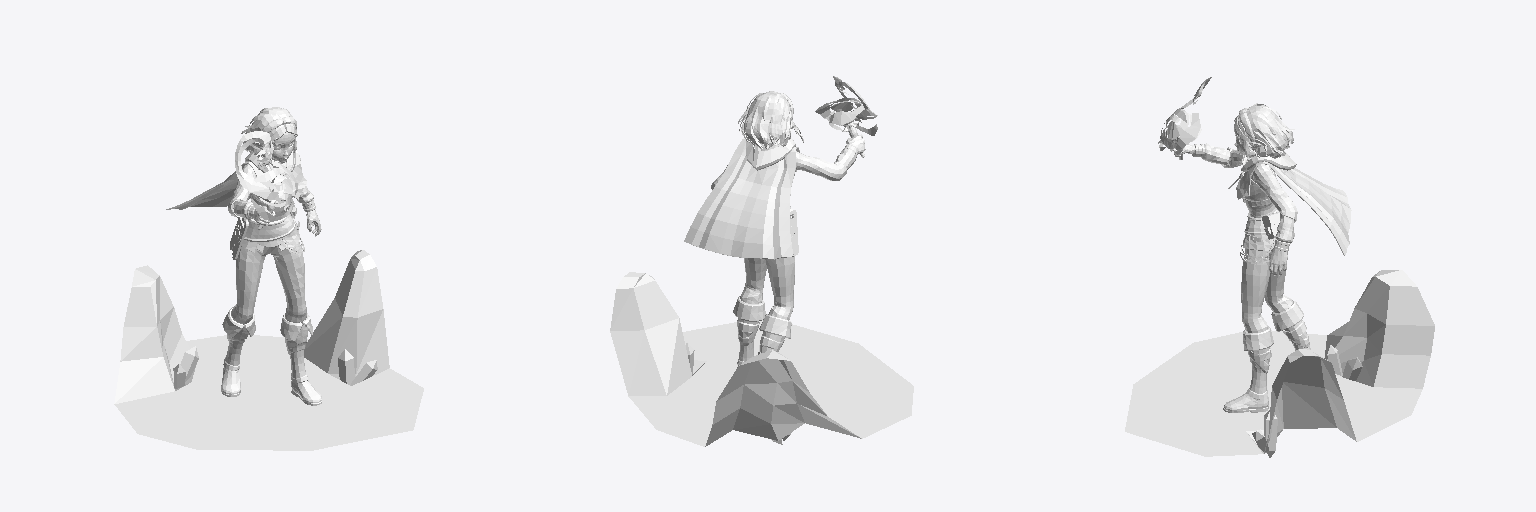
3 views of the same model, side by side, from view 1: azimuth 30°, elevation 25°; view 2: azimuth 150°, elevation 25°; view 3: azimuth 270°, elevation 25° (orthographic).
Parts seen in each view (by area): view 1: mesh_terrain_Mesh.005, mesh_mouthInt_Mesh.002, mesh_fire_Mesh.004, mesh_hair_Mesh.001; view 2: mesh_terrain_Mesh.005, mesh_mouthInt_Mesh.002, mesh_hair_Mesh.001, mesh_fire_Mesh.004; view 3: mesh_terrain_Mesh.005, mesh_mouthInt_Mesh.002, mesh_hair_Mesh.001, mesh_fire_Mesh.004.
Boxes of the visible parts, x1=… form: mesh_terrain_Mesh.005: x1=114, y1=250, x2=423, y2=450; mesh_mouthInt_Mesh.002: x1=166, y1=130, x2=321, y2=405; mesh_fire_Mesh.004: x1=235, y1=131, x2=297, y2=220; mesh_hair_Mesh.001: x1=241, y1=107, x2=296, y2=169; mesh_terrain_Mesh.005: x1=610, y1=272, x2=913, y2=446; mesh_mouthInt_Mesh.002: x1=684, y1=122, x2=865, y2=367; mesh_hair_Mesh.001: x1=738, y1=91, x2=803, y2=148; mesh_fire_Mesh.004: x1=815, y1=76, x2=877, y2=135; mesh_terrain_Mesh.005: x1=1125, y1=270, x2=1434, y2=457; mesh_mouthInt_Mesh.002: x1=1173, y1=126, x2=1351, y2=412; mesh_hair_Mesh.001: x1=1234, y1=103, x2=1294, y2=158; mesh_fire_Mesh.004: x1=1158, y1=77, x2=1211, y2=154.
Bounding box in the file's own units: 1.63 × 1.9 × 1.67.